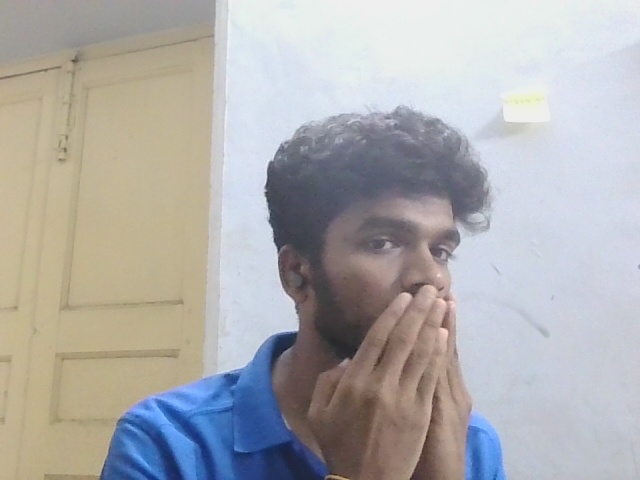Iloveyou: (274, 262, 547, 480)
